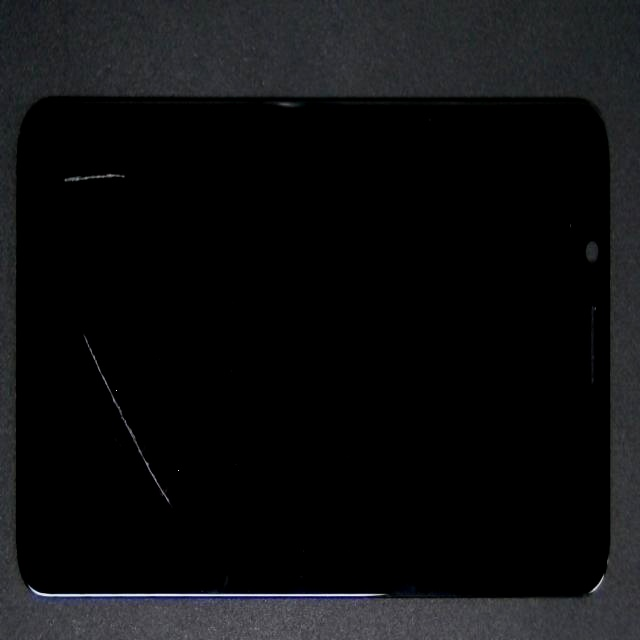scratch: (0, 104, 144, 611), (41, 64, 81, 269)
